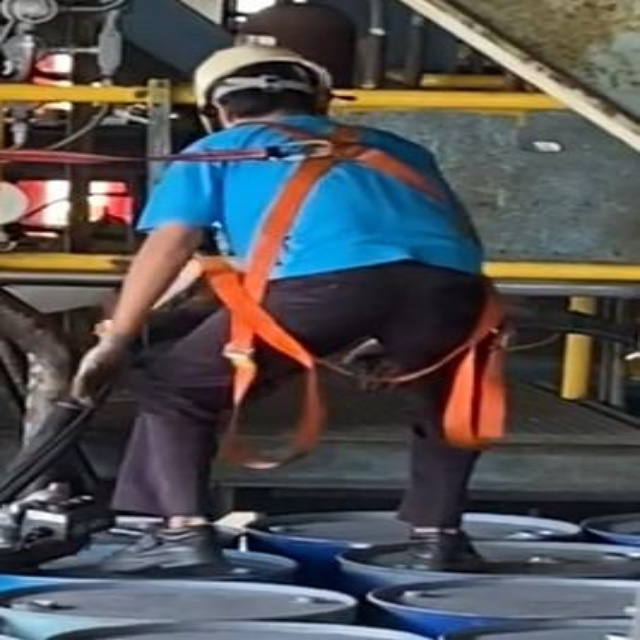Arnes_seguridad: (184, 122, 509, 455)
